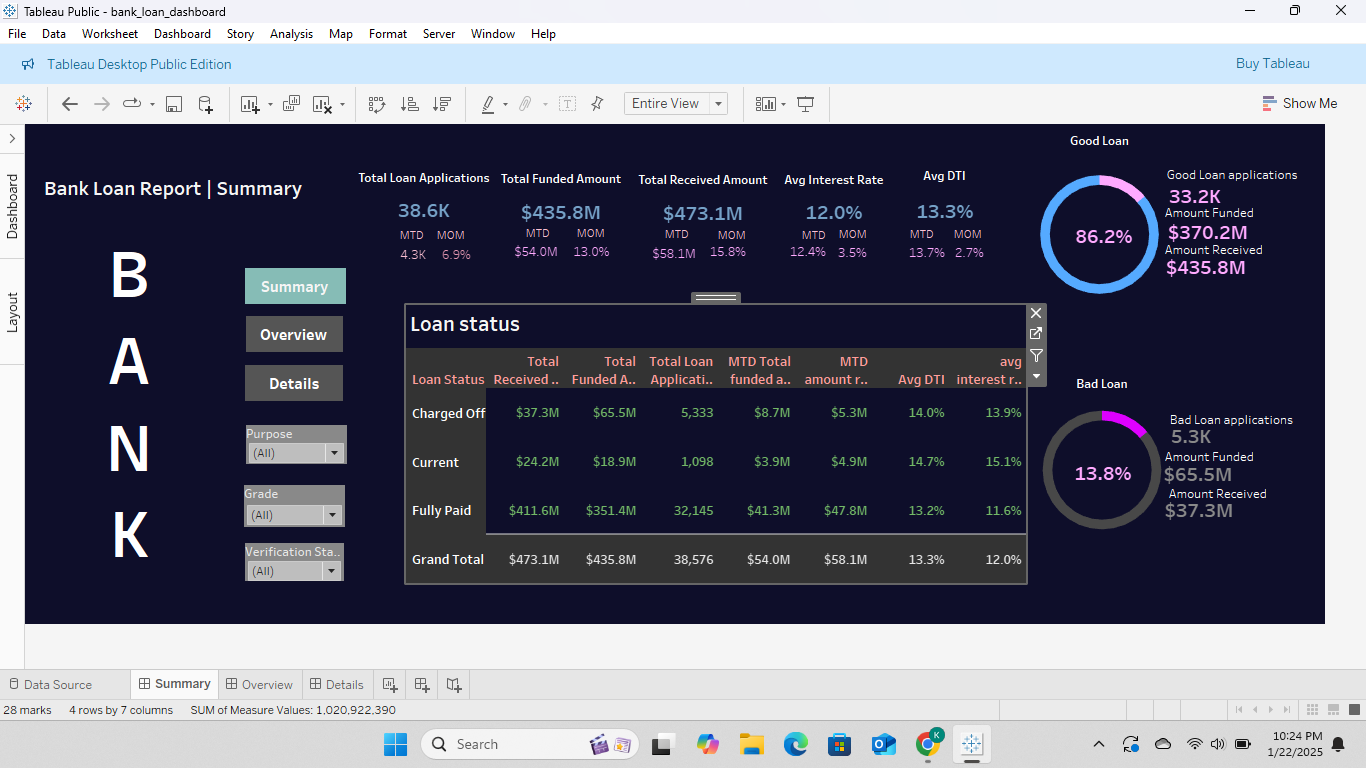

Layout of this report page (visuals, bound fields, positions):
{"tool":"tableau","page":{"name":"Summary","canvas":[1300,500],"ordinal":2},"visuals":[{"type":"worksheet","title":"Good Loan","mark":"Pie","rows":["Calculation_295548762800664578","Calculation_295548762800664578"],"box":[974,4,201,181]},{"type":"text","box":[1139,35,137,30]},{"type":"worksheet","title":"avg DTI","mark":"Automatic","box":[844,39,151,62]},{"type":"worksheet","title":"total_loan_applications","mark":"Automatic","box":[329,41,140,55]},{"type":"worksheet","title":"total_funded_amount","mark":"Automatic","box":[466,42,140,58]},{"type":"worksheet","title":"total_amount_received","mark":"Automatic","box":[597,43,162,57]},{"type":"worksheet","title":"avg interest rate","mark":"Automatic","box":[731,43,156,55]},{"type":"text","box":[16,48,264,30]},{"type":"worksheet","title":"good loan applications","mark":"Automatic","box":[1080,50,180,42]},{"type":"text","box":[1137,73,137,30]},{"type":"worksheet","title":"goodloan application percentage","mark":"Automatic","box":[1044,86,69,49]},{"type":"worksheet","title":"good loan funded amount","mark":"Automatic","box":[1093,87,180,40]},{"type":"text","box":[17,94,174,367]},{"type":"text","box":[498,99,31,20]},{"type":"text","box":[549,99,31,20]},{"type":"text","box":[637,100,31,20]},{"type":"text","box":[811,100,31,20]},{"type":"text","box":[882,100,31,20]},{"type":"text","box":[926,100,31,20]},{"type":"text","box":[372,101,31,20]},{"type":"text","box":[409,101,31,20]},{"type":"text","box":[690,101,31,20]},{"type":"text","box":[774,101,31,20]},{"type":"worksheet","title":"MTD total funded amount","mark":"Automatic","box":[485,107,59,40]},{"type":"worksheet","title":"MoM avg dti","mark":"Automatic","box":[926,109,52,37]},{"type":"text","box":[1137,110,137,30]},{"type":"worksheet","title":"MTD avg DTI","mark":"Automatic","box":[880,111,63,34]},{"type":"worksheet","title":"MoM total funded amount","mark":"Automatic","box":[544,112,57,29]},{"type":"worksheet","title":"MoM total amount received","mark":"Automatic","box":[681,114,48,25]},{"type":"worksheet","title":"MTD avg interest rate","mark":"Automatic","box":[761,114,60,25]},{"type":"worksheet","title":"MoM avg in rate","mark":"Automatic","box":[809,114,56,28]},{"type":"worksheet","title":"MoM Loan Applications","mark":"Automatic","box":[413,118,38,23]},{"type":"worksheet","title":"MTD total amount received","mark":"Automatic","box":[623,118,57,21]},{"type":"worksheet","title":"good loan amount received","mark":"Automatic","box":[1091,120,180,43]},{"type":"worksheet","title":"MTD Loan Applications","mark":"Automatic","box":[371,121,39,17]},{"type":"dashboard-object","box":[220,144,101,36]},{"type":"worksheet","title":"Loan status","mark":"Automatic","rows":["loan_status"],"box":[381,181,620,278]},{"type":"dashboard-object","box":[221,192,97,36]},{"type":"dashboard-object","box":[220,241,98,36]},{"type":"worksheet","title":"Bad Loan","mark":"Pie","rows":["Calculation_295548762800664578","Calculation_295548762800664578"],"box":[977,247,200,166]},{"type":"text","box":[1142,280,137,30]},{"type":"worksheet","title":"bad loan applications ","mark":"Automatic","box":[1057,292,218,37]},{"type":"filter","title":"Good Loan","param":"[federated.0u4nhs11hb3evv12lf0sh1rm0hka].[none:purpose:nk]","box":[221,301,101,39]},{"type":"text","box":[1137,317,137,30]},{"type":"worksheet","title":"bad loan applications","mark":"Automatic","box":[1041,322,73,53]},{"type":"worksheet","title":"bad loan amount funded","mark":"Automatic","box":[1069,331,207,35]},{"type":"text","box":[1141,354,137,30]},{"type":"filter","title":"Good Loan","param":"[federated.0u4nhs11hb3evv12lf0sh1rm0hka].[none:grade:nk]","box":[219,361,101,42]},{"type":"worksheet","title":"bad loan amount received","mark":"Automatic","box":[1070,367,207,35]},{"type":"filter","title":"Good Loan","param":"[federated.0u4nhs11hb3evv12lf0sh1rm0hka].[none:verification_status:nk]","box":[220,419,99,38]}]}

Visuals, with their boxes on the page's 1300x500 design canvas (x1, y1, x2, y2). These are canvas units, not pixel positions in the 1366x768 screenshot, which may show the page scaled, cropped or inside an application window:
"Good Loan" worksheet (Pie marks): select_region(974, 4, 1175, 185)
text: select_region(1139, 35, 1276, 65)
"avg DTI" worksheet: select_region(844, 39, 995, 101)
"total_loan_applications" worksheet: select_region(329, 41, 469, 96)
"total_funded_amount" worksheet: select_region(466, 42, 606, 100)
"total_amount_received" worksheet: select_region(597, 43, 759, 100)
"avg interest rate" worksheet: select_region(731, 43, 887, 98)
text: select_region(16, 48, 280, 78)
"good loan applications" worksheet: select_region(1080, 50, 1260, 92)
text: select_region(1137, 73, 1274, 103)
"goodloan application percentage" worksheet: select_region(1044, 86, 1113, 135)
"good loan funded amount" worksheet: select_region(1093, 87, 1273, 127)
text: select_region(17, 94, 191, 461)
text: select_region(498, 99, 529, 119)
text: select_region(549, 99, 580, 119)
text: select_region(637, 100, 668, 120)
text: select_region(811, 100, 842, 120)
text: select_region(882, 100, 913, 120)
text: select_region(926, 100, 957, 120)
text: select_region(372, 101, 403, 121)
text: select_region(409, 101, 440, 121)
text: select_region(690, 101, 721, 121)
text: select_region(774, 101, 805, 121)
"MTD total funded amount" worksheet: select_region(485, 107, 544, 147)
"MoM avg dti" worksheet: select_region(926, 109, 978, 146)
text: select_region(1137, 110, 1274, 140)
"MTD avg DTI" worksheet: select_region(880, 111, 943, 145)
"MoM total funded amount" worksheet: select_region(544, 112, 601, 141)
"MoM total amount received" worksheet: select_region(681, 114, 729, 139)
"MTD avg interest rate" worksheet: select_region(761, 114, 821, 139)
"MoM avg in rate" worksheet: select_region(809, 114, 865, 142)
"MoM Loan Applications" worksheet: select_region(413, 118, 451, 141)
"MTD total amount received" worksheet: select_region(623, 118, 680, 139)
"good loan amount received" worksheet: select_region(1091, 120, 1271, 163)
"MTD Loan Applications" worksheet: select_region(371, 121, 410, 138)
dashboard-object: select_region(220, 144, 321, 180)
"Loan status" worksheet: select_region(381, 181, 1001, 459)
dashboard-object: select_region(221, 192, 318, 228)
dashboard-object: select_region(220, 241, 318, 277)
"Bad Loan" worksheet (Pie marks): select_region(977, 247, 1177, 413)
text: select_region(1142, 280, 1279, 310)
"bad loan applications " worksheet: select_region(1057, 292, 1275, 329)
"Good Loan" filter: select_region(221, 301, 322, 340)
text: select_region(1137, 317, 1274, 347)
"bad loan applications" worksheet: select_region(1041, 322, 1114, 375)
"bad loan amount funded" worksheet: select_region(1069, 331, 1276, 366)
text: select_region(1141, 354, 1278, 384)
"Good Loan" filter: select_region(219, 361, 320, 403)
"bad loan amount received" worksheet: select_region(1070, 367, 1277, 402)
"Good Loan" filter: select_region(220, 419, 319, 457)
